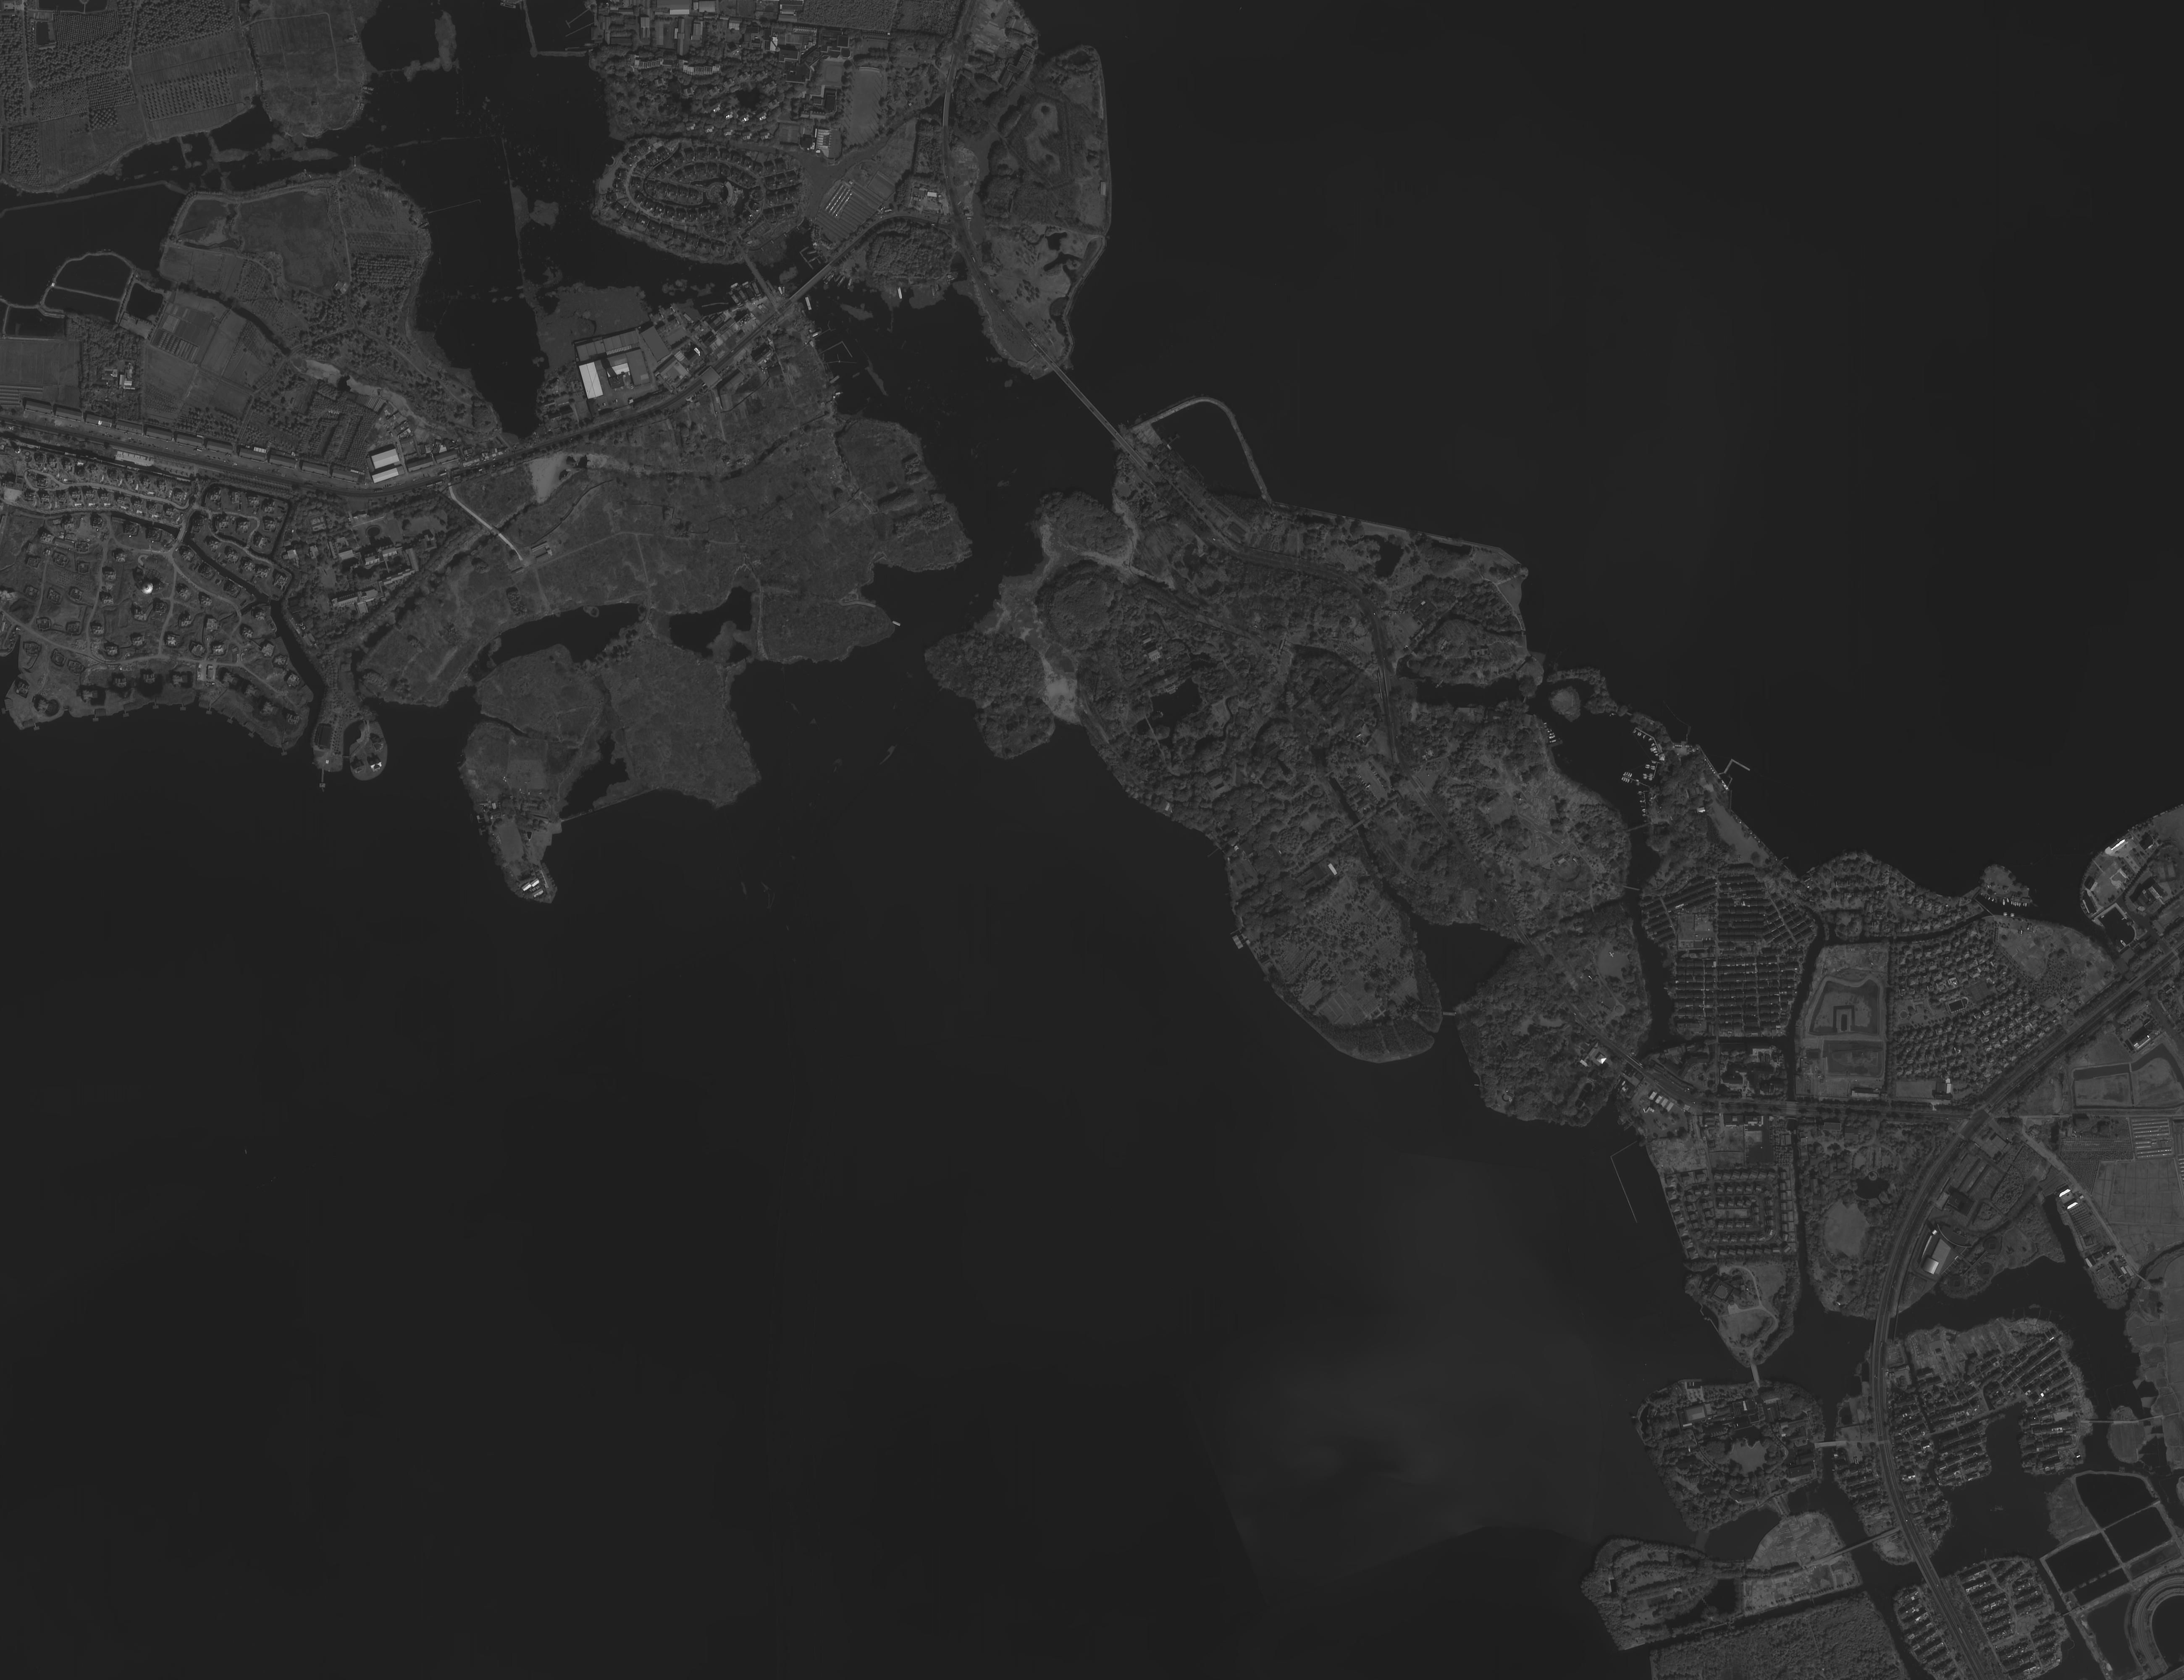harbor: (1609, 1138, 1671, 1225), (1713, 755, 1752, 794), (422, 196, 482, 219), (1630, 724, 1667, 757), (817, 341, 854, 371), (565, 7, 593, 28), (1619, 771, 1653, 789), (810, 319, 836, 341), (566, 21, 595, 37), (1230, 932, 1247, 951), (1164, 431, 1180, 448), (319, 768, 326, 787), (478, 826, 489, 836), (247, 729, 258, 739), (226, 715, 236, 725), (280, 746, 289, 757), (476, 814, 485, 822), (206, 706, 213, 715), (178, 704, 187, 711), (152, 701, 159, 709), (122, 709, 129, 718), (92, 713, 99, 722), (34, 724, 41, 731)
